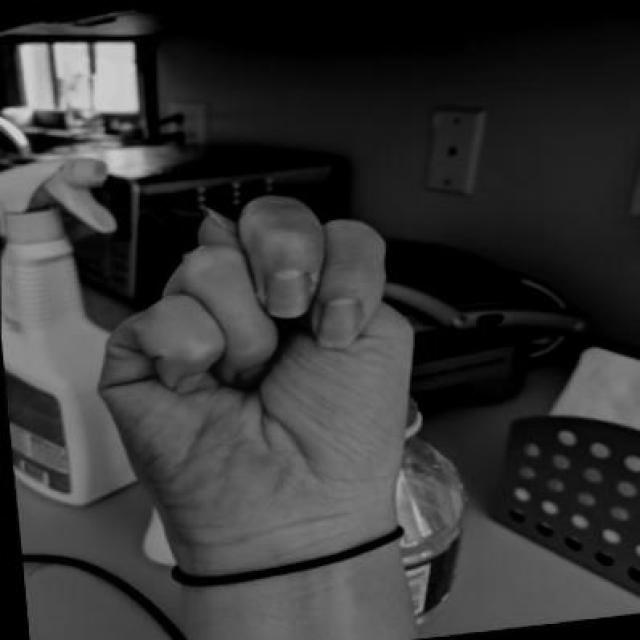N: (74, 174, 437, 562)
